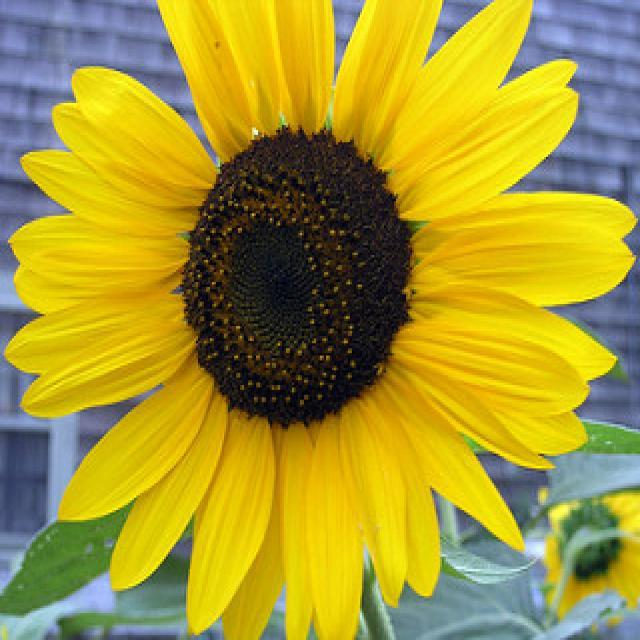sunflower: (6, 1, 636, 636), (545, 497, 638, 613)
